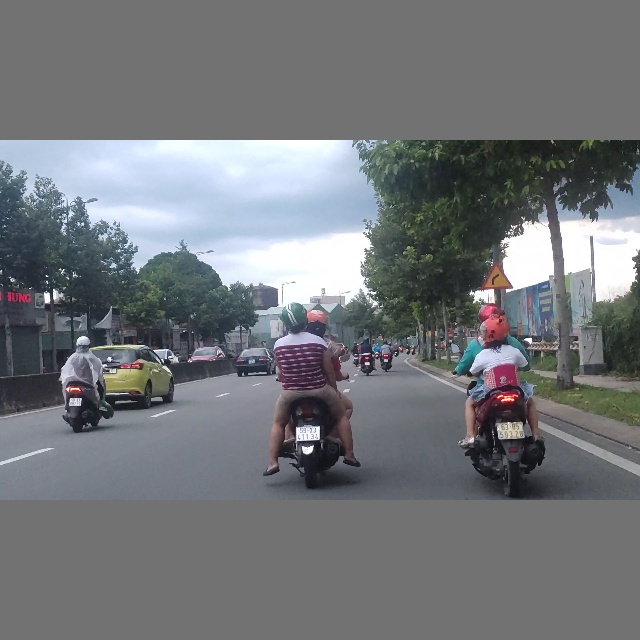W.201b: (480, 261, 514, 291)
